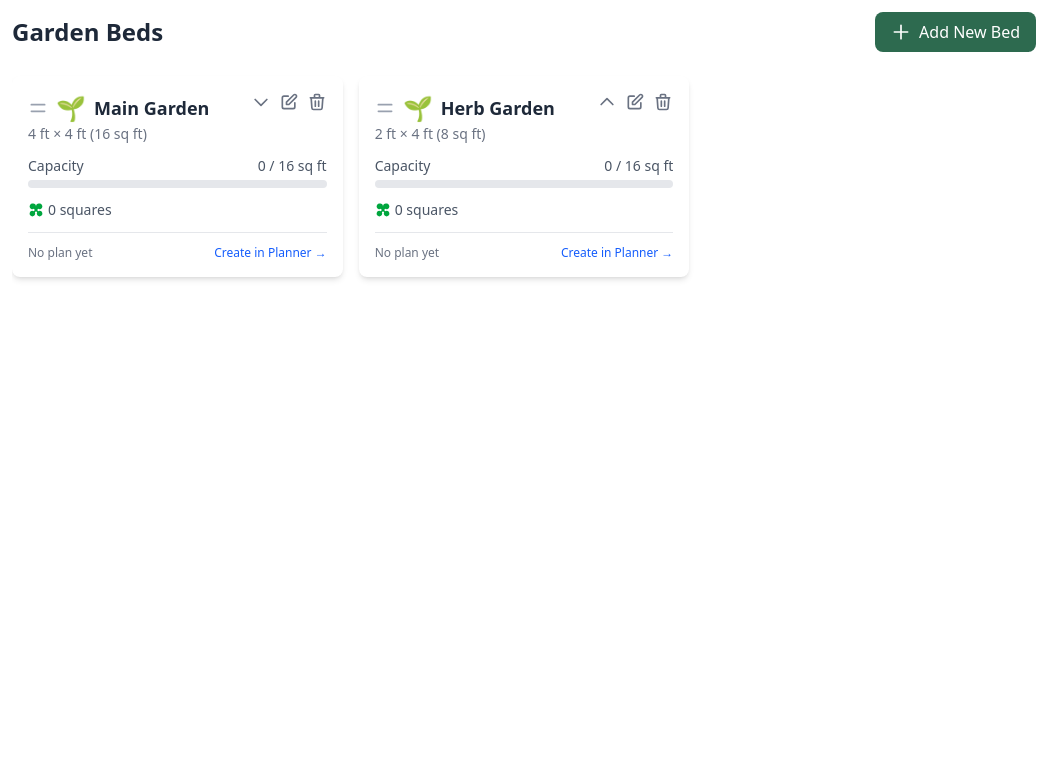
BedManager › deleting beds › clears error when adding new bed
Click the button named "Delete Main Garden" at (317, 102), box [307,92,327,112]
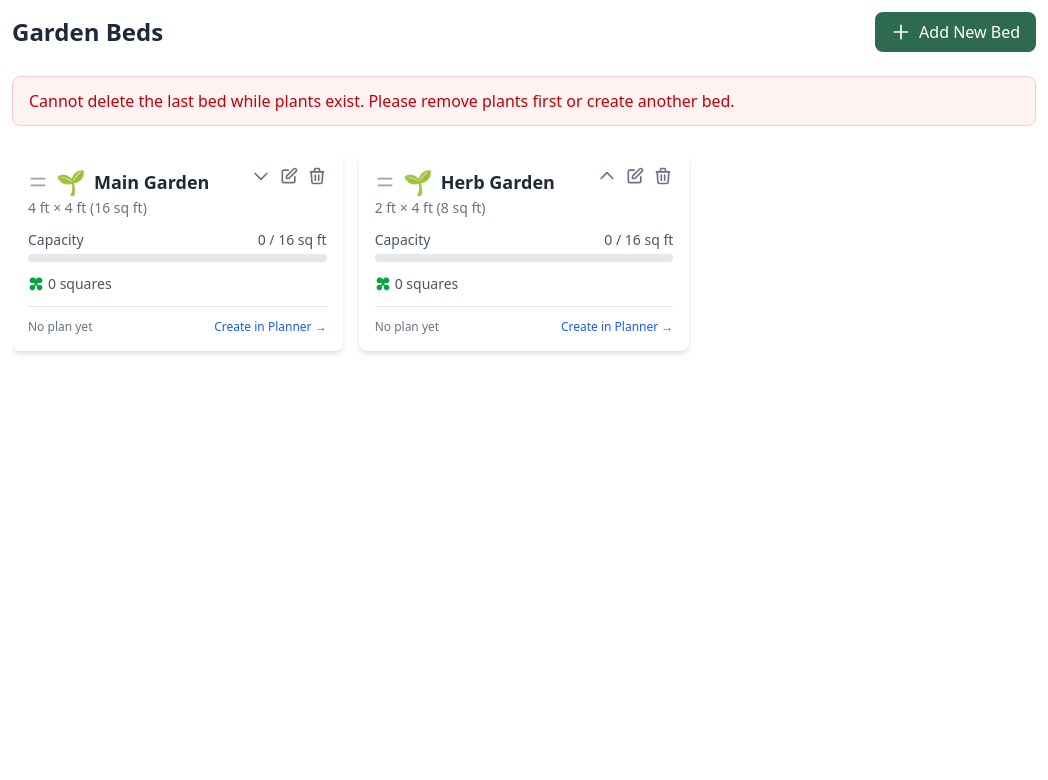
Expected: the text "Cannot delete the last bed" is shown, [29,90,735,112]
Click the button "Add New Bed" at (956, 32), box [875,12,1036,52]
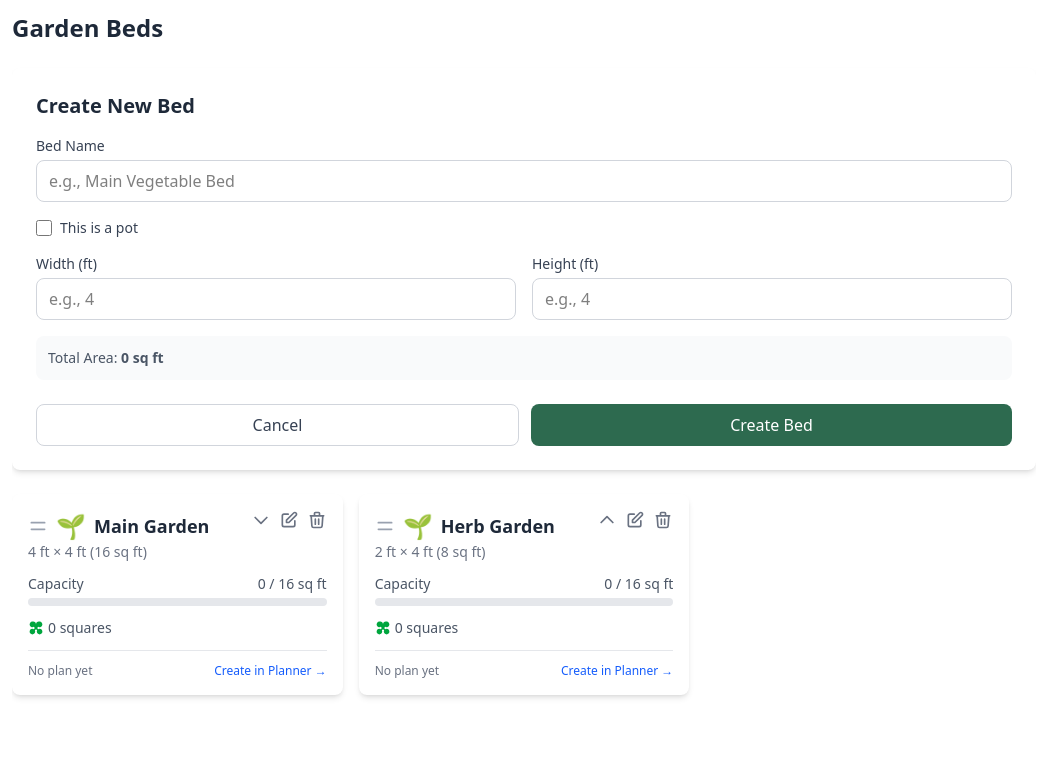
Expected: the text "Cannot delete the last bed" is gone
